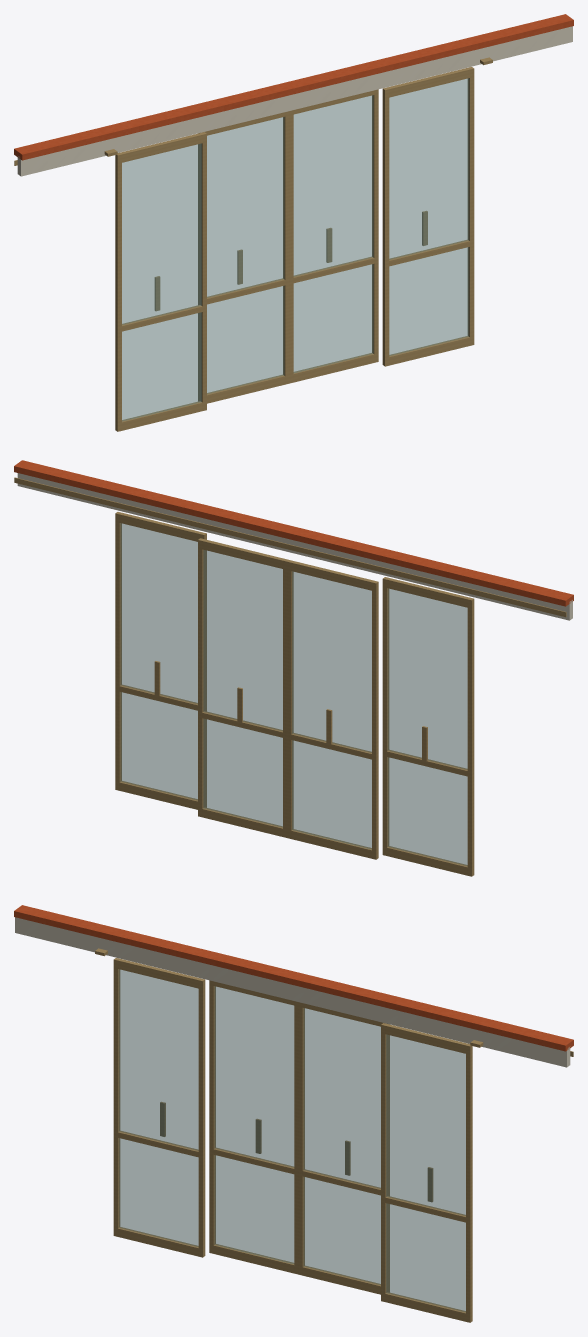
Rendered from living_public_r002.glb.
The picture shows the model from 3 angles, top to bottom: view 1: azimuth 30°, elevation 25°; view 2: azimuth 150°, elevation 25°; view 3: azimuth 330°, elevation 25°; orthographic projection.
Visible parts, largest first — view 1: Panel_R1_field, Panel_R0_field, Panel_L0_field, Panel_L1_field, track_back, track_cap, Panel_R0_stile_left, Panel_R0_stile_right, Panel_L0_stile_left, Panel_L0_stile_right, Panel_L1_stile_right, Panel_R1_stile_right (+12 smaller); view 2: Panel_L0_field, Panel_L1_field, Panel_R1_field, Panel_R0_field, track_cap, track_back, track_brass, Panel_L0_stile_left, Panel_L0_stile_right, Panel_L1_stile_left, Panel_R1_stile_right, Panel_L1_stile_right (+15 smaller); view 3: Panel_L1_field, Panel_L0_field, Panel_R0_field, Panel_R1_field, track_back, track_cap, Panel_L0_stile_right, Panel_L0_stile_left, Panel_R0_stile_right, Panel_R0_stile_left, Panel_L1_stile_left, Panel_R1_stile_left (+12 smaller).
Part boxes in pixels (bbox=[...]): Panel_R1_field: bbox=[293, 95, 373, 373]; Panel_R0_field: bbox=[389, 78, 469, 355]; Panel_L0_field: bbox=[122, 143, 201, 421]; Panel_L1_field: bbox=[207, 117, 284, 394]; track_back: bbox=[17, 26, 572, 176]; track_cap: bbox=[14, 14, 573, 160]; Panel_R0_stile_left: bbox=[382, 87, 389, 366]; Panel_R0_stile_right: bbox=[467, 67, 474, 345]; Panel_L0_stile_left: bbox=[115, 152, 121, 431]; Panel_L0_stile_right: bbox=[200, 132, 206, 410]; Panel_L1_stile_right: bbox=[283, 111, 289, 384]; Panel_R1_stile_right: bbox=[372, 89, 378, 362]; Panel_L0_field: bbox=[387, 588, 467, 865]; Panel_L1_field: bbox=[292, 571, 371, 849]; Panel_R1_field: bbox=[203, 550, 282, 827]; Panel_R0_field: bbox=[120, 523, 197, 800]; track_cap: bbox=[14, 460, 573, 606]; track_back: bbox=[17, 473, 572, 620]; track_brass: bbox=[14, 477, 566, 617]; Panel_L0_stile_left: bbox=[467, 597, 474, 876]; Panel_L0_stile_right: bbox=[382, 577, 389, 855]; Panel_L1_stile_left: bbox=[372, 580, 378, 859]; Panel_R1_stile_right: bbox=[198, 538, 204, 817]; Panel_L1_stile_right: bbox=[287, 560, 293, 838]; Panel_L1_field: bbox=[214, 986, 294, 1264]; Panel_L0_field: bbox=[118, 969, 198, 1246]; Panel_R0_field: bbox=[386, 1034, 465, 1312]; Panel_R1_field: bbox=[303, 1008, 380, 1285]; track_back: bbox=[15, 917, 570, 1067]; track_cap: bbox=[14, 905, 573, 1051]; Panel_L0_stile_right: bbox=[198, 978, 205, 1257]; Panel_L0_stile_left: bbox=[113, 958, 120, 1236]; Panel_R0_stile_right: bbox=[466, 1043, 472, 1322]; Panel_R0_stile_left: bbox=[381, 1023, 387, 1301]; Panel_L1_stile_left: bbox=[209, 980, 215, 1253]; Panel_R1_stile_left: bbox=[298, 1002, 304, 1275].
Bounding box in the file's own units: 5.85 × 3.06 × 0.3.
Materials: 4 (3 with a texture image).
